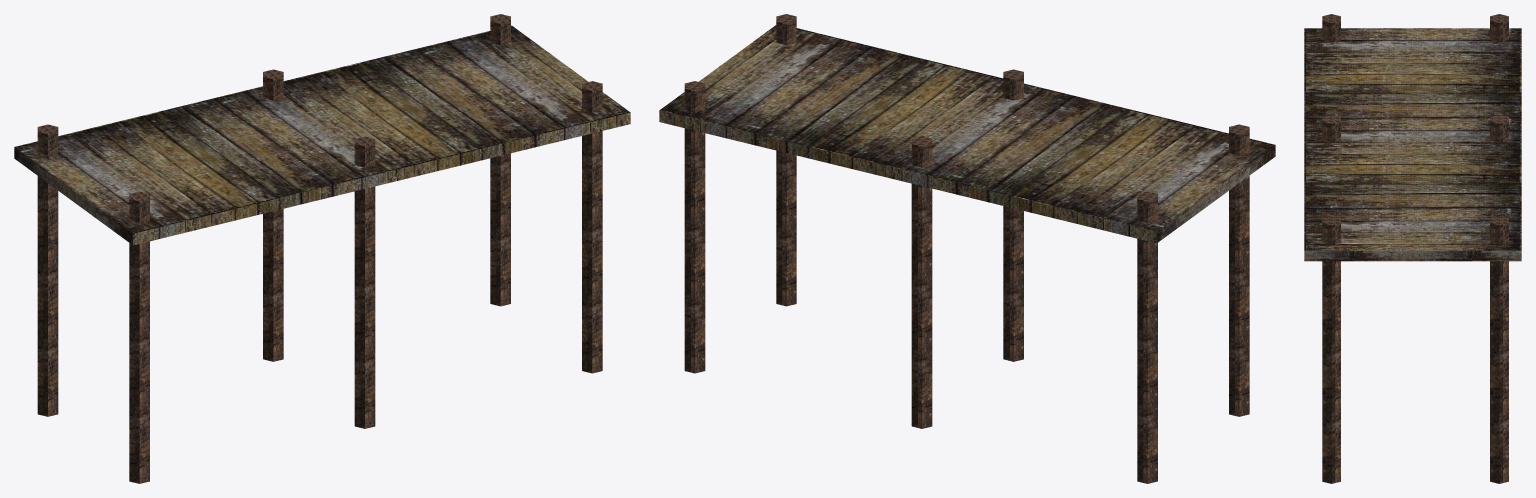
File: dock.fbx
3 views of the same model, side by side, from view 1: azimuth 30°, elevation 25°; view 2: azimuth 150°, elevation 25°; view 3: azimuth 270°, elevation 25° (orthographic). The views are drawn at different scales.
Parts seen in each view (by area): view 1: pCube1, pCylinder6, pCylinder7, pCylinder8, pCylinder2, pCylinder5, pCylinder1; view 2: pCube1, pCylinder1, pCylinder5, pCylinder7, pCylinder8, pCylinder2, pCylinder6; view 3: pCube1, pCylinder1, pCylinder2, pCylinder7, pCylinder8, pCylinder5, pCylinder6.
Boxes of the visible parts, x1,y1,x2,y2 form: pCube1: (14, 25, 630, 245); pCylinder6: (354, 136, 375, 428); pCylinder7: (37, 124, 58, 416); pCylinder8: (129, 191, 149, 483); pCylinder2: (582, 81, 602, 373); pCylinder5: (263, 69, 283, 361); pCylinder1: (490, 14, 510, 306); pCube1: (659, 25, 1275, 243); pCylinder1: (684, 81, 705, 373); pCylinder5: (911, 136, 932, 428); pCylinder7: (1137, 191, 1157, 483); pCylinder8: (1229, 124, 1249, 416); pCylinder2: (776, 14, 796, 306); pCylinder6: (1003, 69, 1023, 361); pCube1: (1304, 28, 1521, 261); pCylinder1: (1490, 216, 1508, 483); pCylinder2: (1322, 216, 1340, 483); pCylinder7: (1490, 14, 1508, 42); pCylinder8: (1322, 14, 1340, 42); pCylinder5: (1490, 114, 1508, 143); pCylinder6: (1322, 114, 1340, 143).
Bounding box in the file's own units: 8.6 × 4.66 × 3.55.
Materials: 2 (2 with a texture image).
